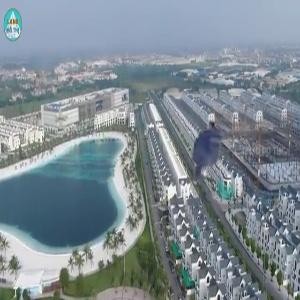drone: (159, 100, 259, 200)
